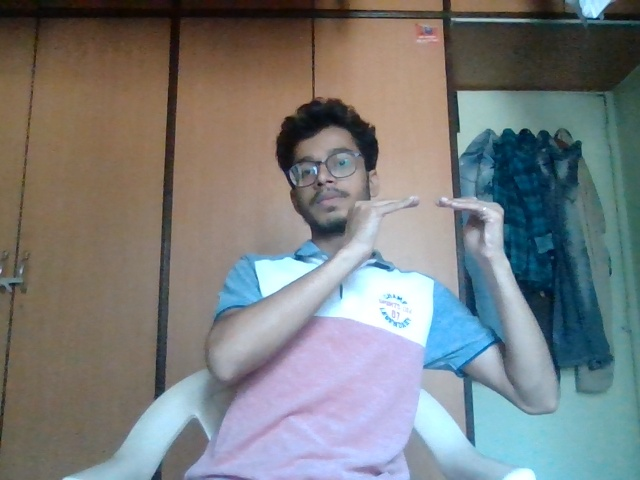afternoon: (329, 180, 531, 287)
